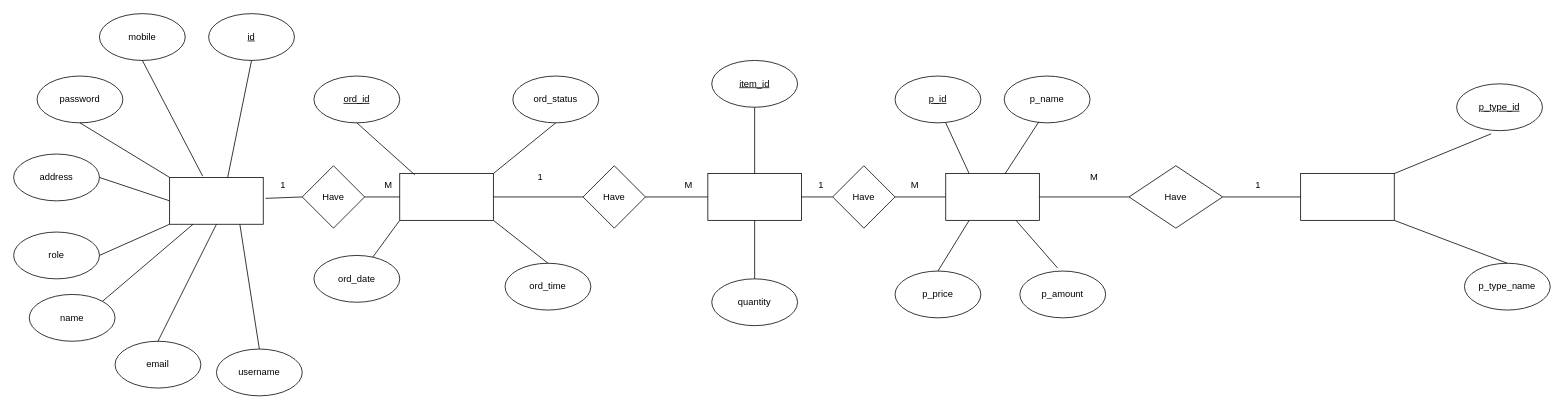
This 1564x410 diagram has some shape labels left out. Each missing label, with the centre of its shape:
orders: point 446,196
orders_item: point 754,196
product: point 992,196
product_type: point 1347,196
users: point 216,200
